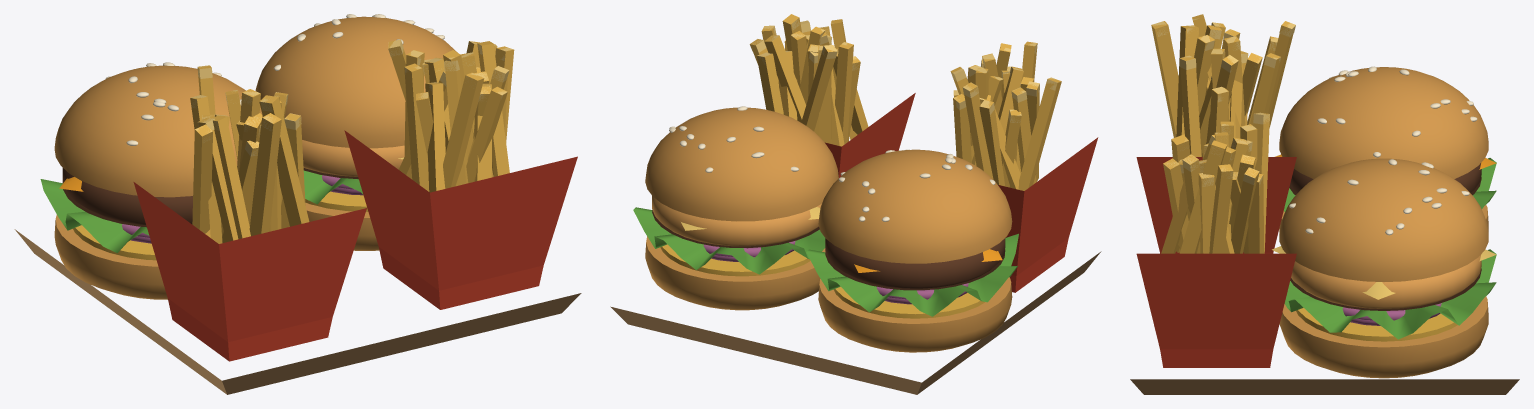
The model's file is combo-duo.glb.
The picture shows the model from 3 angles, left to right: view 1: azimuth 30°, elevation 25°; view 2: azimuth 150°, elevation 25°; view 3: azimuth 270°, elevation 25°; orthographic projection. The views are drawn at different scales.
Parts seen in each view (by area): view 1: combo-duo; view 2: combo-duo; view 3: combo-duo.
Boxes of the visible parts, box(x1,y1,x2,y2) form: combo-duo: box(14, 14, 581, 394); combo-duo: box(610, 14, 1101, 394); combo-duo: box(1130, 14, 1519, 394).
Size of the model in its own units: 0.2293 by 0.1385 by 0.198.
